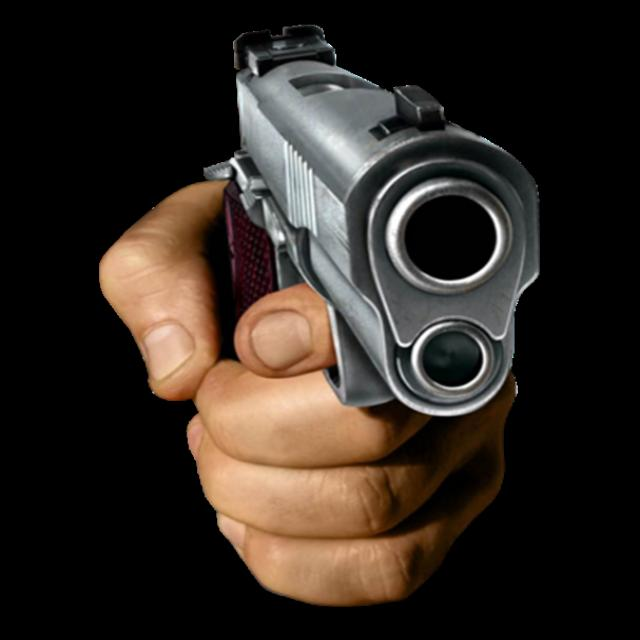HandGun: (205, 25, 542, 421)
